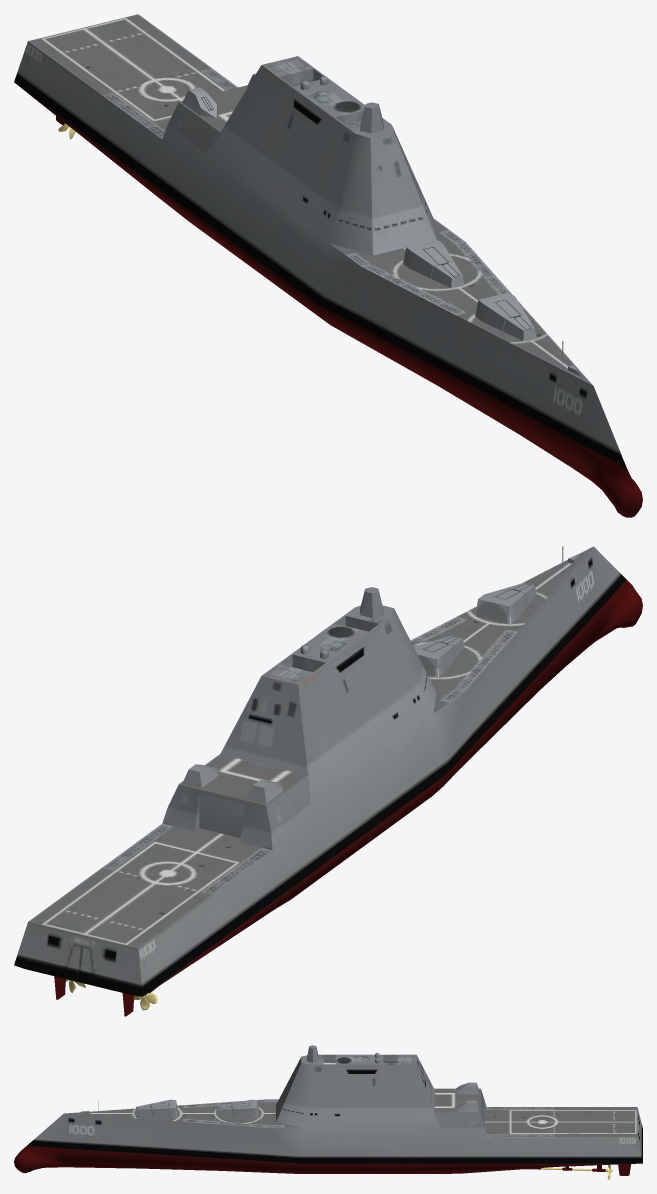
3 renders of one model, top to bottom at view 1: azimuth 30°, elevation 25°; view 2: azimuth 150°, elevation 25°; view 3: azimuth 270°, elevation 25°, orthographic. The views are drawn at different scales.
Visible parts, largest first — view 1: Hull; view 2: Hull; view 3: Hull.
Boxes of the visible parts, x1,y1,x2,y2 form: Hull: (14, 14, 642, 517); Hull: (14, 546, 642, 1016); Hull: (14, 1045, 642, 1179).
Size of the model in its own units: 3.52 by 5.84 by 26.48.
Materials: 1 (1 with a texture image).
